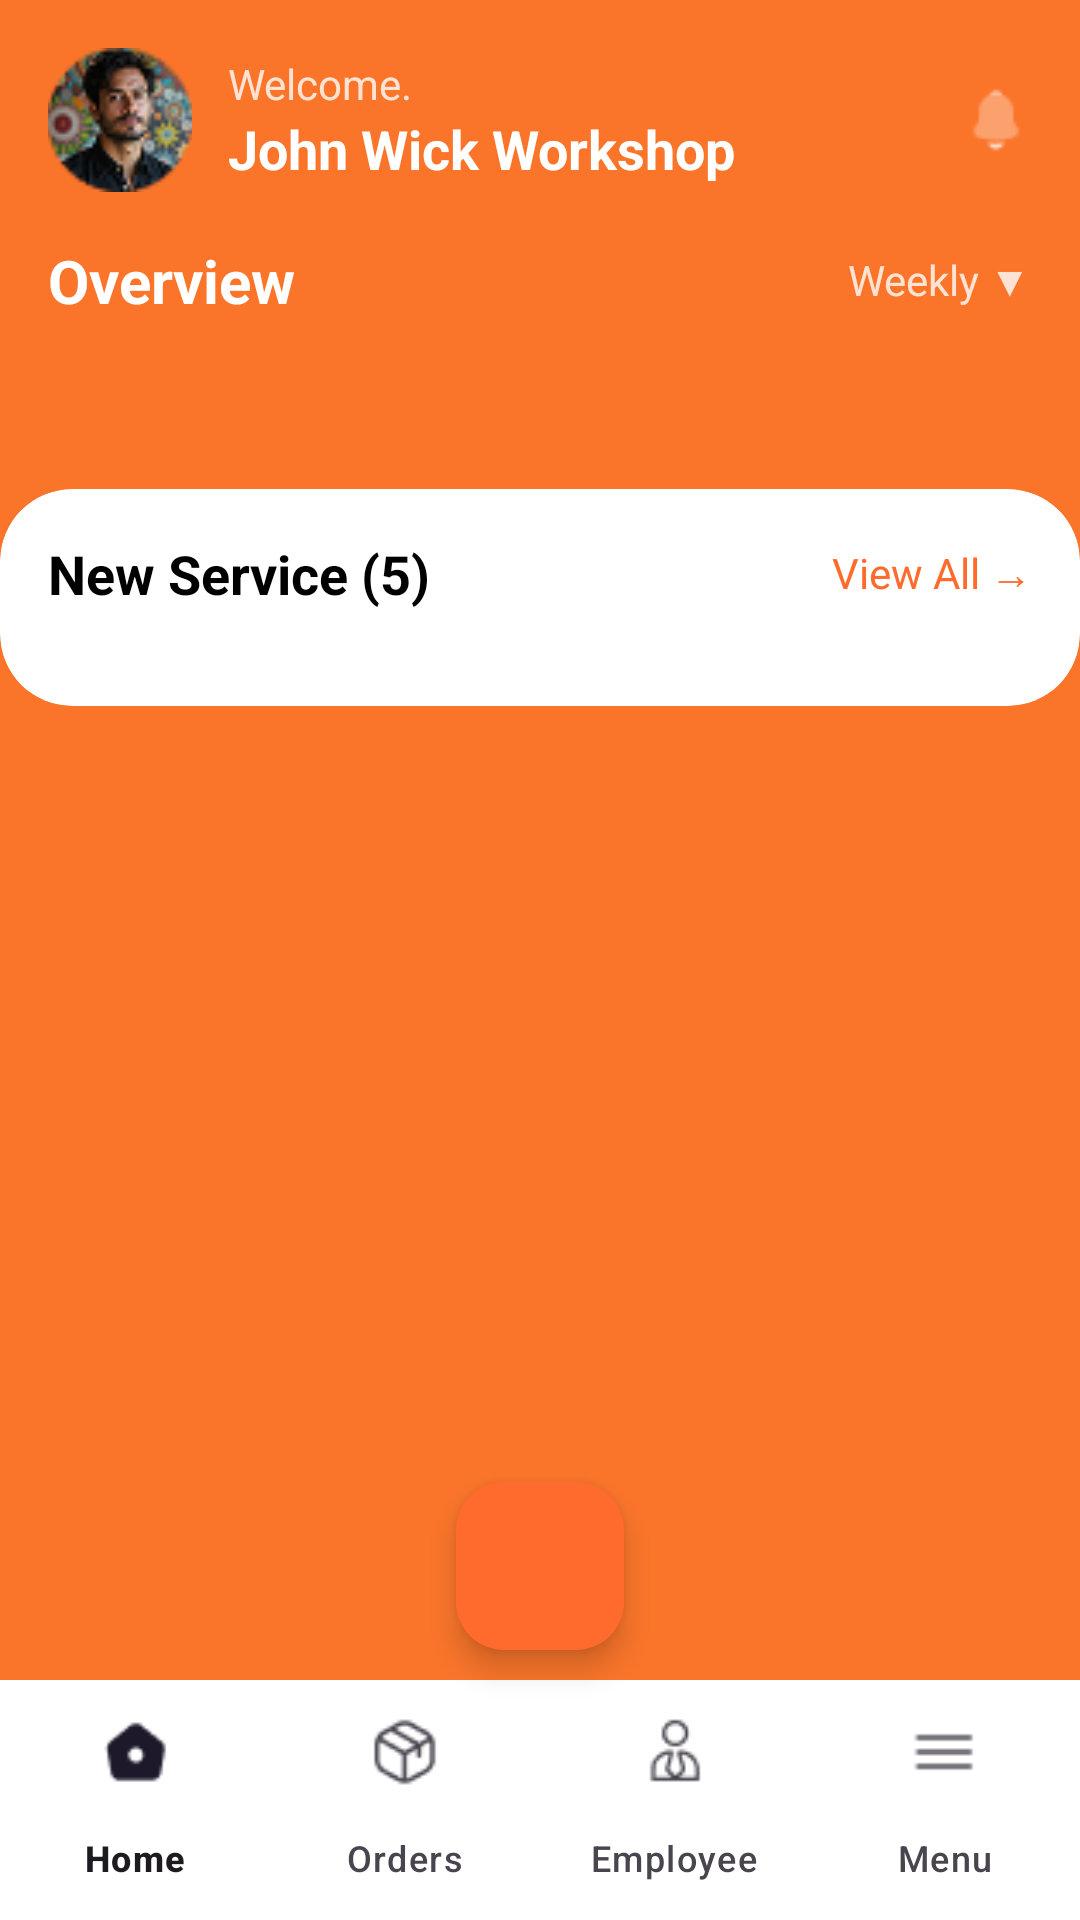

Screen size 1080x1920. Icon name, then its box in pixels as (x1, y1, x2, y2):
notification: (973, 89, 1019, 151)
